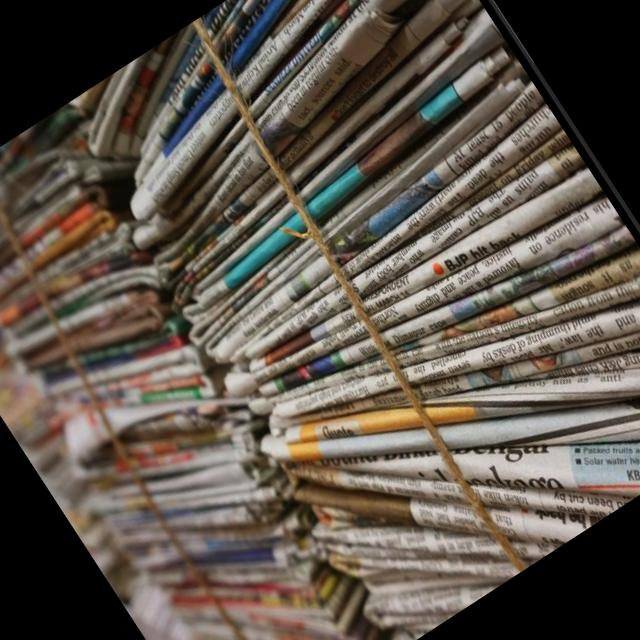Koran: (0, 0, 640, 640), (0, 97, 423, 640)
